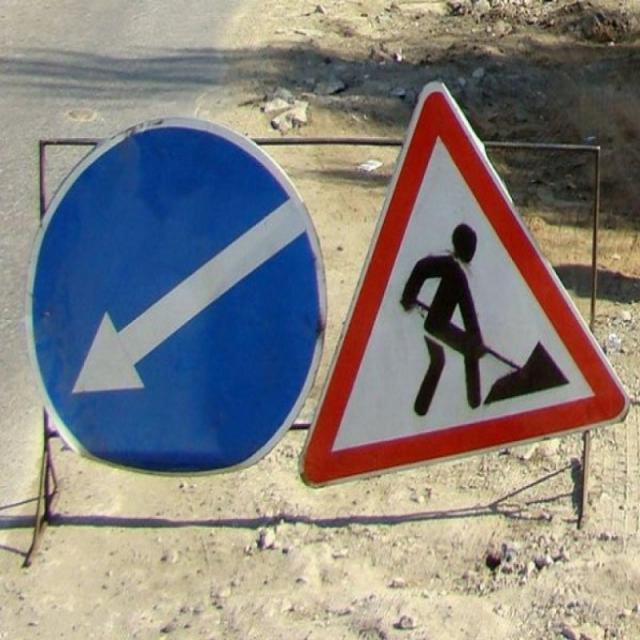roadwork: (301, 76, 633, 490)
